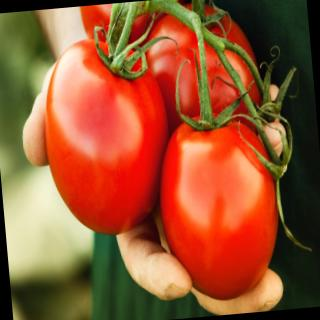Tomat: (39, 33, 181, 244), (151, 94, 288, 306)
